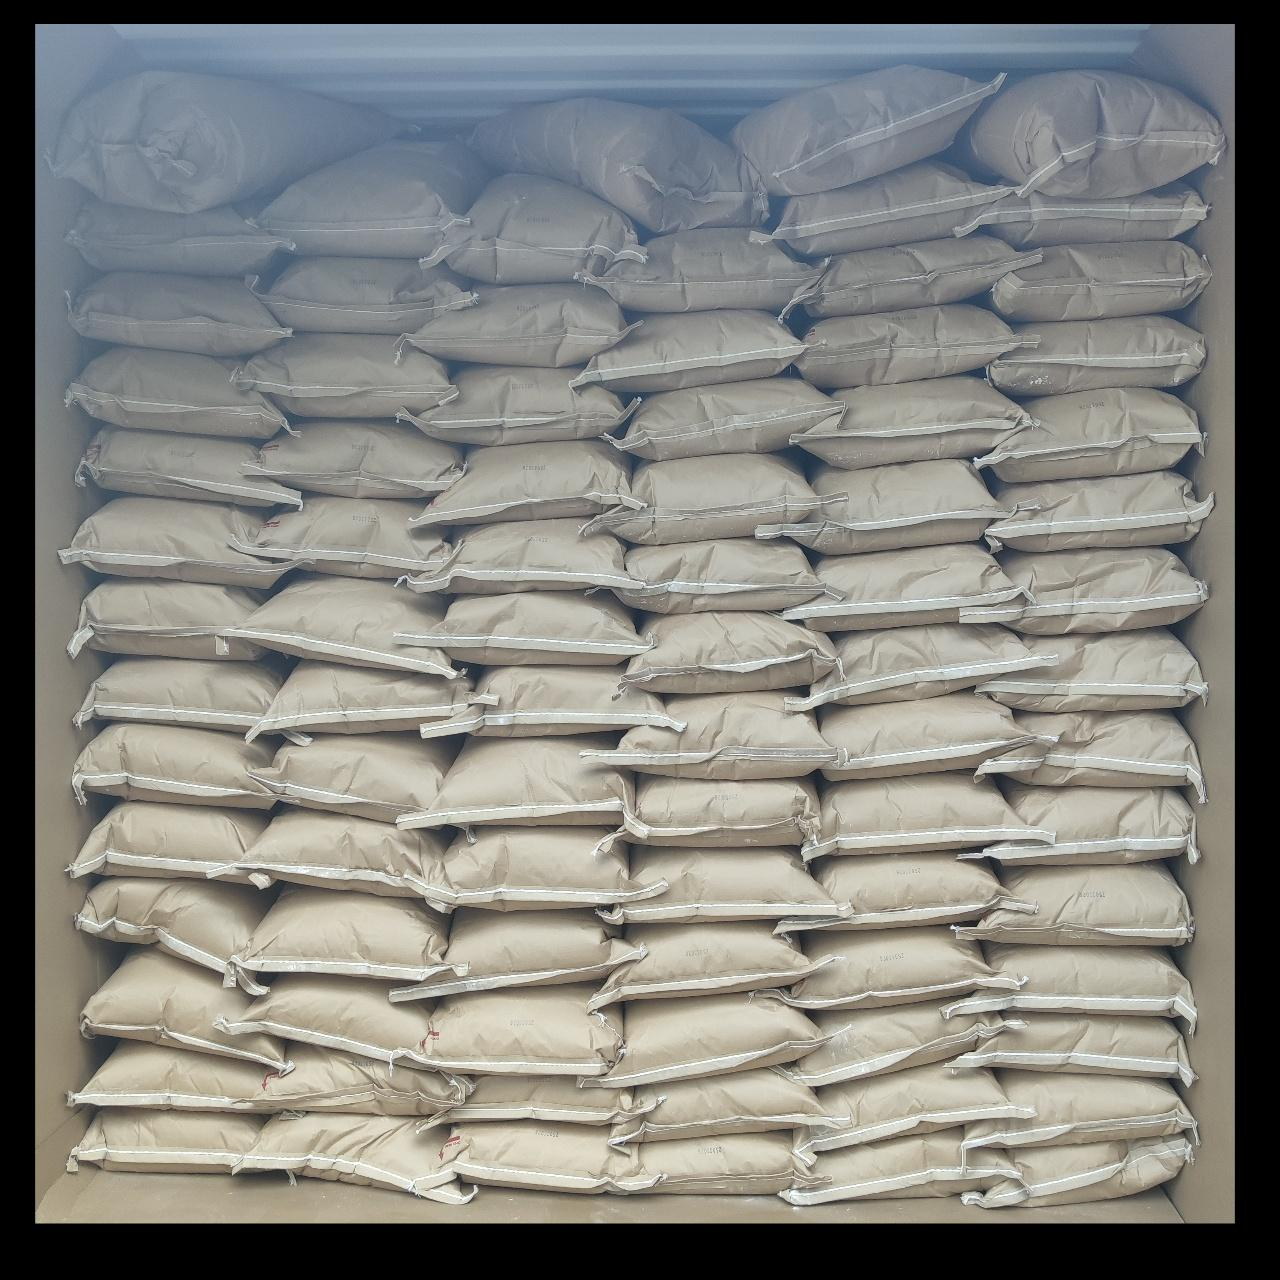sack: (50, 70, 399, 210), (468, 98, 765, 230), (731, 66, 1000, 196), (956, 72, 1224, 199), (256, 139, 486, 256), (82, 949, 286, 1070), (768, 159, 1022, 254), (424, 176, 644, 284), (76, 878, 274, 996), (234, 574, 462, 676), (758, 459, 1010, 550), (392, 908, 644, 998), (792, 376, 1032, 468), (590, 992, 822, 1085), (792, 1064, 1032, 1155), (240, 1112, 476, 1204), (580, 690, 835, 774), (232, 884, 445, 982), (60, 496, 286, 588), (754, 926, 1016, 1006), (796, 624, 1050, 706), (804, 772, 1048, 858), (948, 944, 1194, 1028), (784, 544, 1024, 629), (68, 346, 286, 440), (787, 236, 1039, 316), (590, 456, 826, 542), (964, 549, 1206, 632), (778, 852, 1028, 932), (974, 392, 1201, 478), (240, 806, 445, 903), (787, 1000, 1016, 1085), (414, 440, 640, 526), (402, 736, 629, 822), (818, 690, 1036, 778), (608, 376, 838, 459), (592, 922, 822, 1006), (964, 782, 1194, 864), (796, 304, 1020, 388), (602, 846, 846, 924), (960, 864, 1190, 946), (434, 826, 660, 910), (584, 229, 816, 309), (976, 628, 1204, 710), (229, 974, 433, 1065), (416, 983, 622, 1074), (402, 284, 628, 366), (576, 309, 802, 392), (399, 365, 629, 444), (70, 578, 282, 663), (986, 470, 1212, 550), (79, 425, 300, 506), (250, 734, 456, 821), (248, 660, 476, 738), (236, 496, 452, 578), (779, 1130, 1020, 1204), (614, 1065, 846, 1142), (399, 592, 648, 662), (70, 274, 290, 354), (624, 612, 836, 694), (72, 799, 272, 886), (990, 240, 1208, 320), (424, 666, 680, 734), (988, 316, 1204, 396), (396, 518, 636, 590), (238, 334, 452, 414), (976, 712, 1200, 788), (954, 181, 1208, 247), (72, 724, 278, 806), (606, 538, 835, 612), (68, 200, 292, 275), (962, 1132, 1190, 1206), (600, 774, 821, 850), (946, 1014, 1192, 1082), (254, 258, 474, 334), (968, 1073, 1196, 1144), (250, 420, 462, 496), (76, 658, 288, 734), (256, 1042, 470, 1114), (72, 1042, 278, 1112), (440, 1121, 638, 1192), (604, 1130, 812, 1192), (70, 1110, 263, 1175), (425, 1074, 654, 1126)
